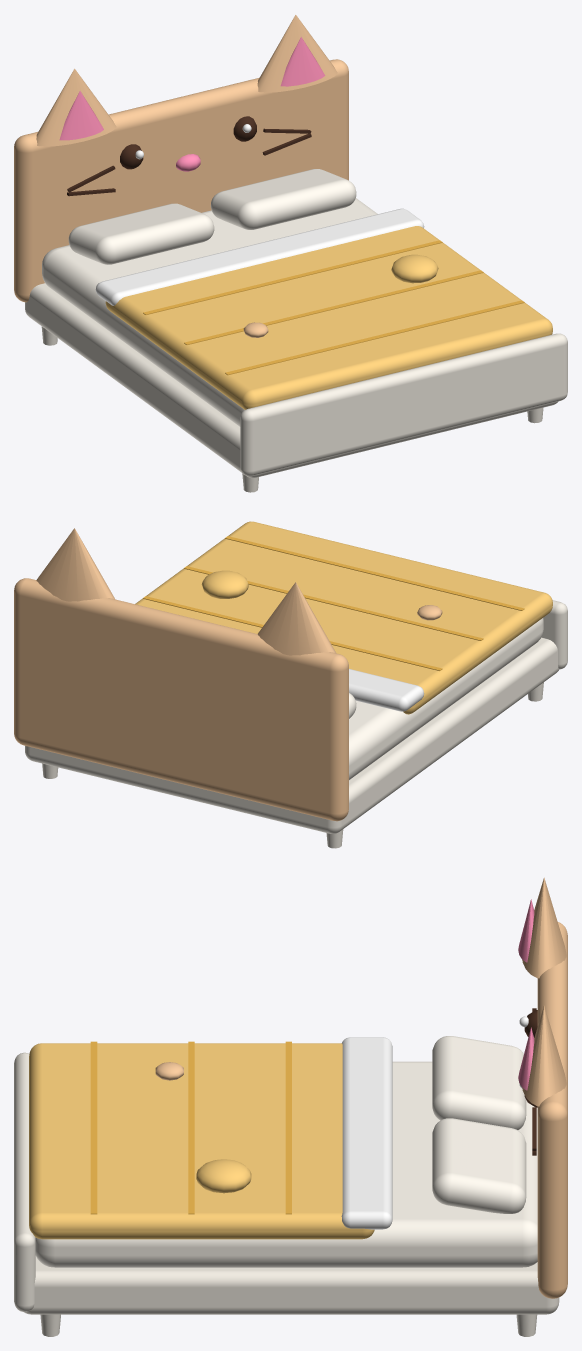
Rendered from bed-kitty.glb.
3 renders of one model, top to bottom at view 1: azimuth 30°, elevation 25°; view 2: azimuth 150°, elevation 25°; view 3: azimuth 270°, elevation 25°, orthographic. The views are drawn at different scales.
Bounding box in the file's own units: 2.1 × 1.58 × 2.56.
